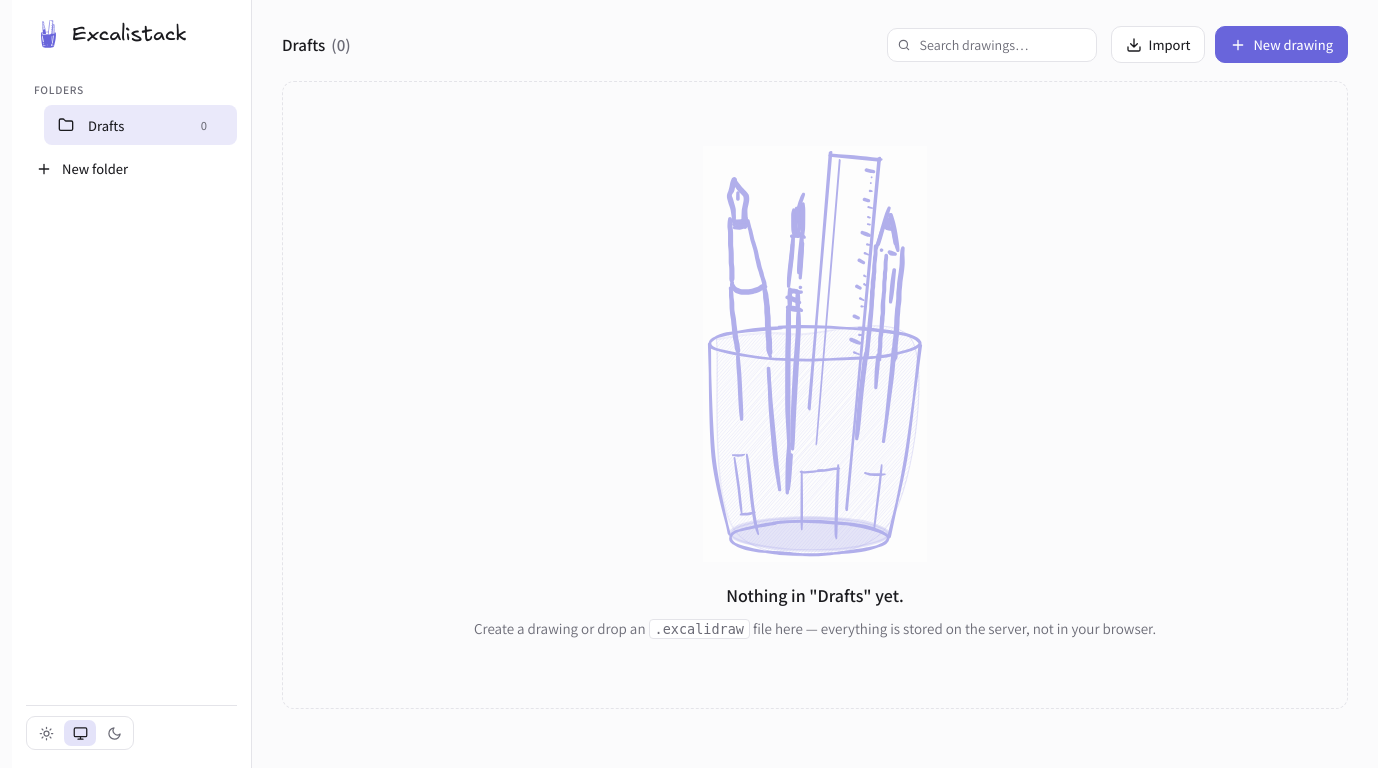
Scenario: Dashboard actions › creates a drawing in the active folder and opens it
Click the button "New drawing".
click(1282, 44)  # box [1216,26,1348,63]
(page scrolled)
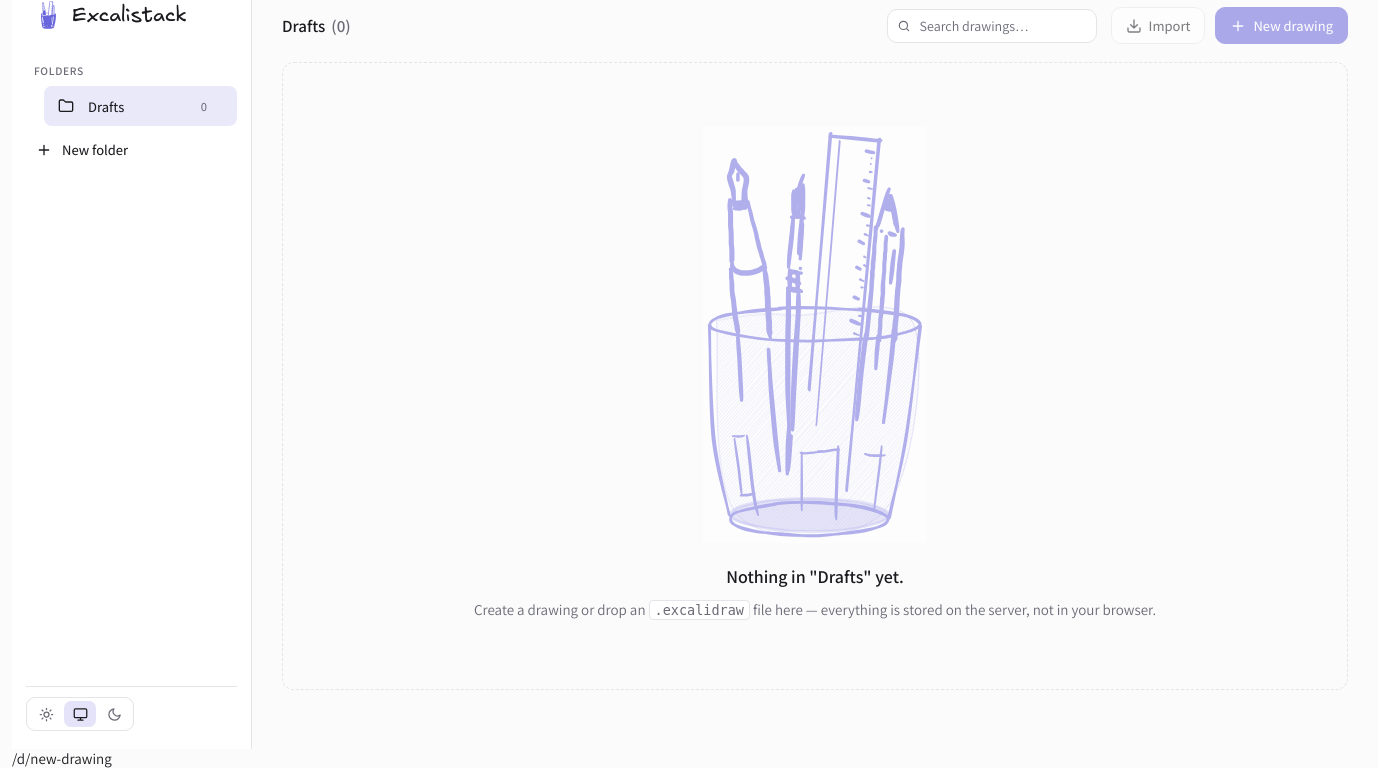
Result: the text with test id "location" reads "/d/new-drawing" at [12,749,112,767]
